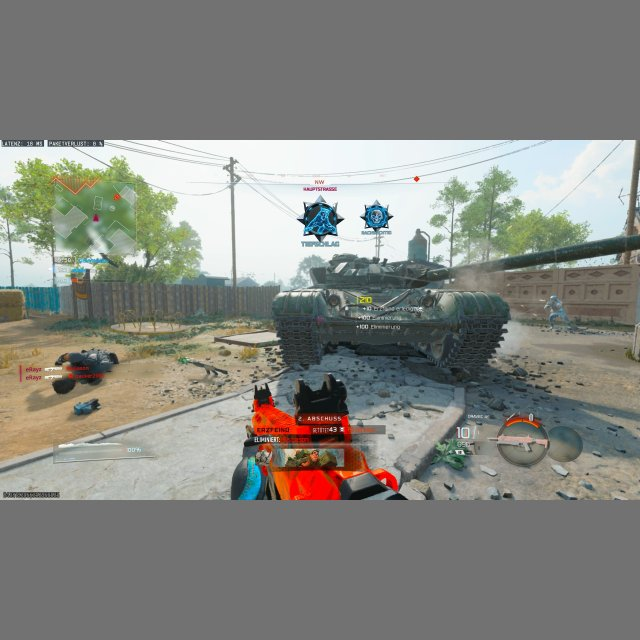head: (550, 296, 557, 303)
player: (544, 295, 568, 328)
